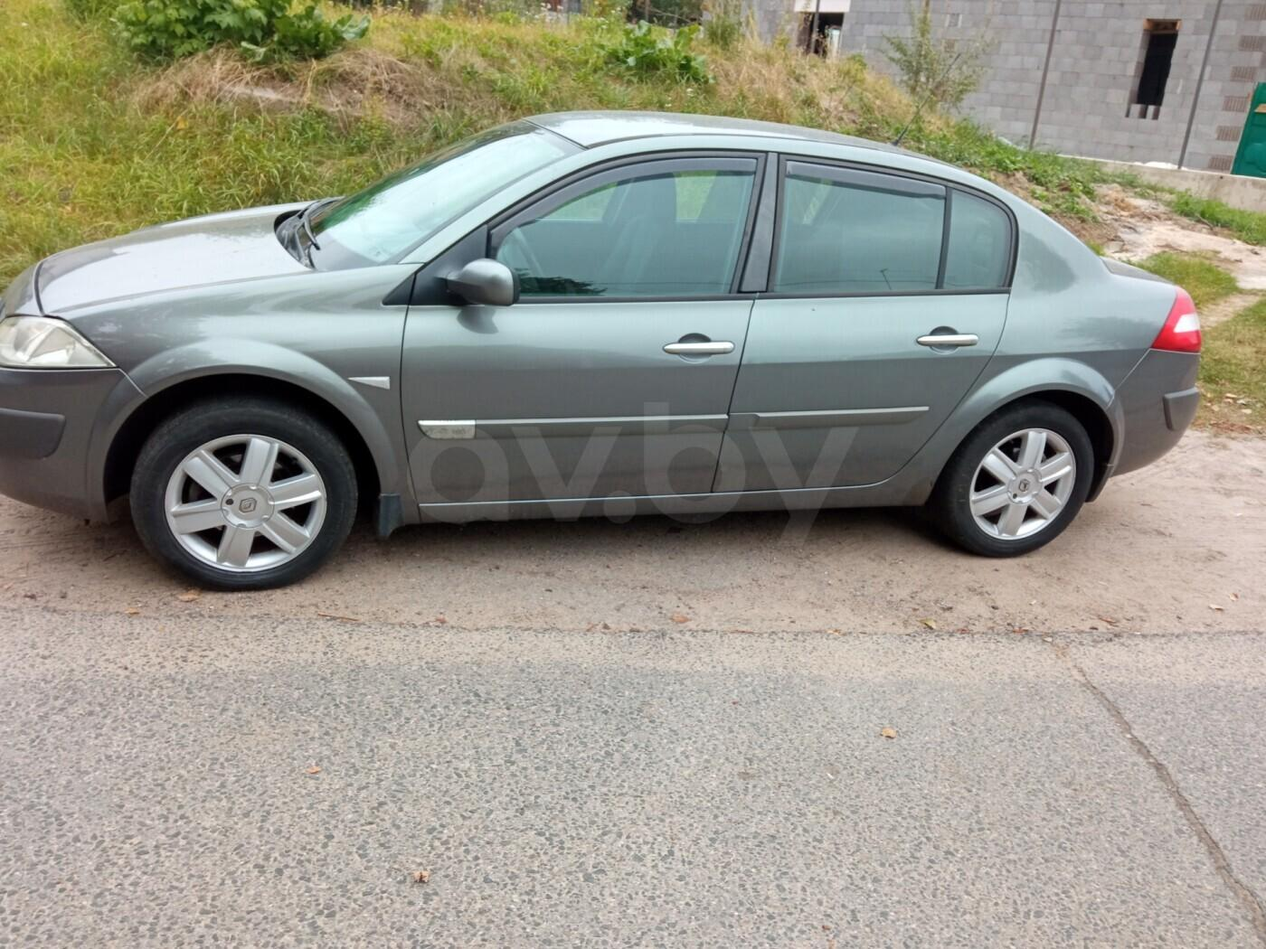Megane_2002-2006: (0, 114, 1210, 587)
